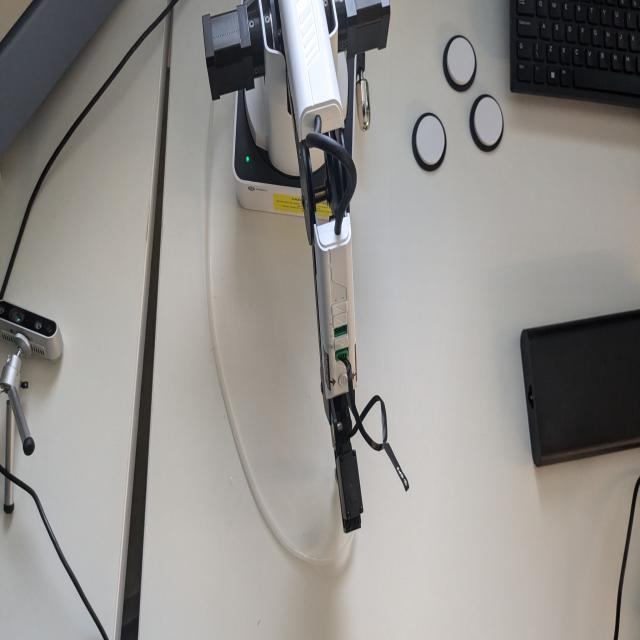Robot-end-effector-HF8z: (332, 445, 366, 537)
